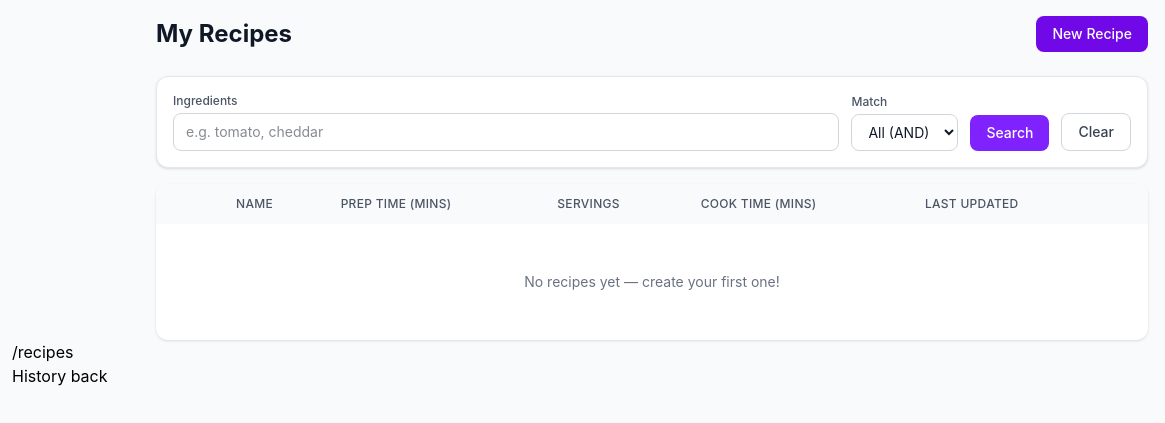
Test: RecipeList › shows hint when Search submitted with empty ingredients
Expected: the heading "My Recipes" is shown, [156,18,292,50]
Click the button "Search": coordinates (1010, 133) [970,115,1050,151]
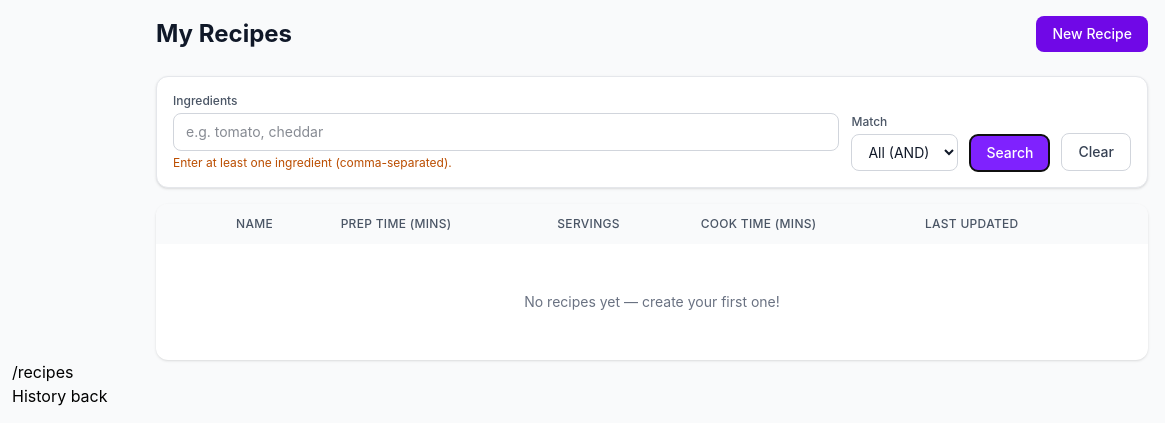
Expected: the text with test id "location" reads "/recipes", [12,362,73,382]
Expected: the text "Enter at least one ingredient (comma-separated)." is shown, [173,155,452,170]
